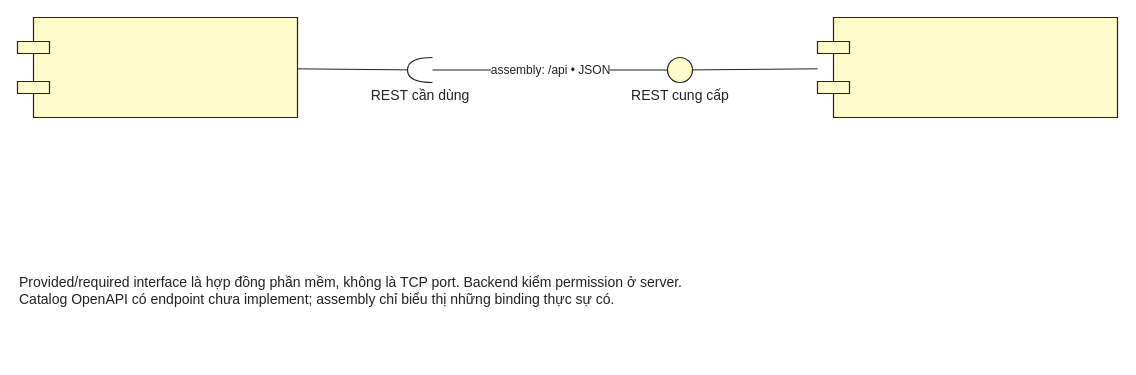
The diagram is 1136 pixels wide and 375 high, and some of its shapes have lost their labels. Here are the shapes that lost their labels. From the top down, the centre of each, then its label:
the point at 157,67: «component» Axios client
the point at 967,67: «component» Spring REST controllers
